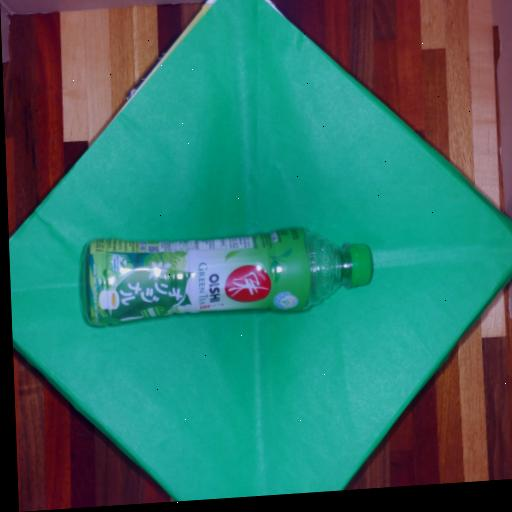bottle: (85, 229, 372, 325)
